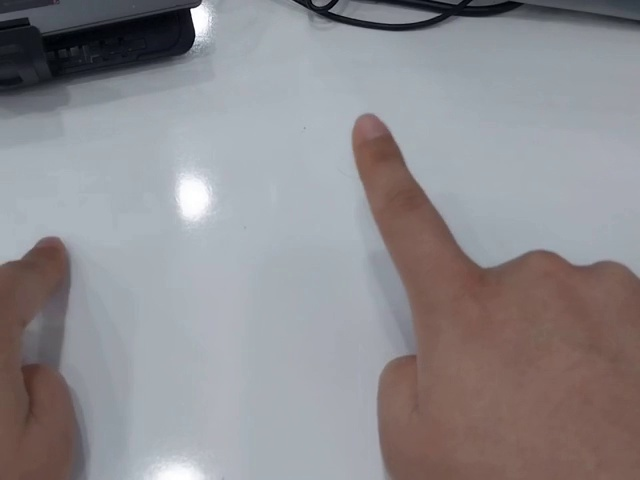fingers: (351, 111, 402, 165), (23, 234, 69, 282)
